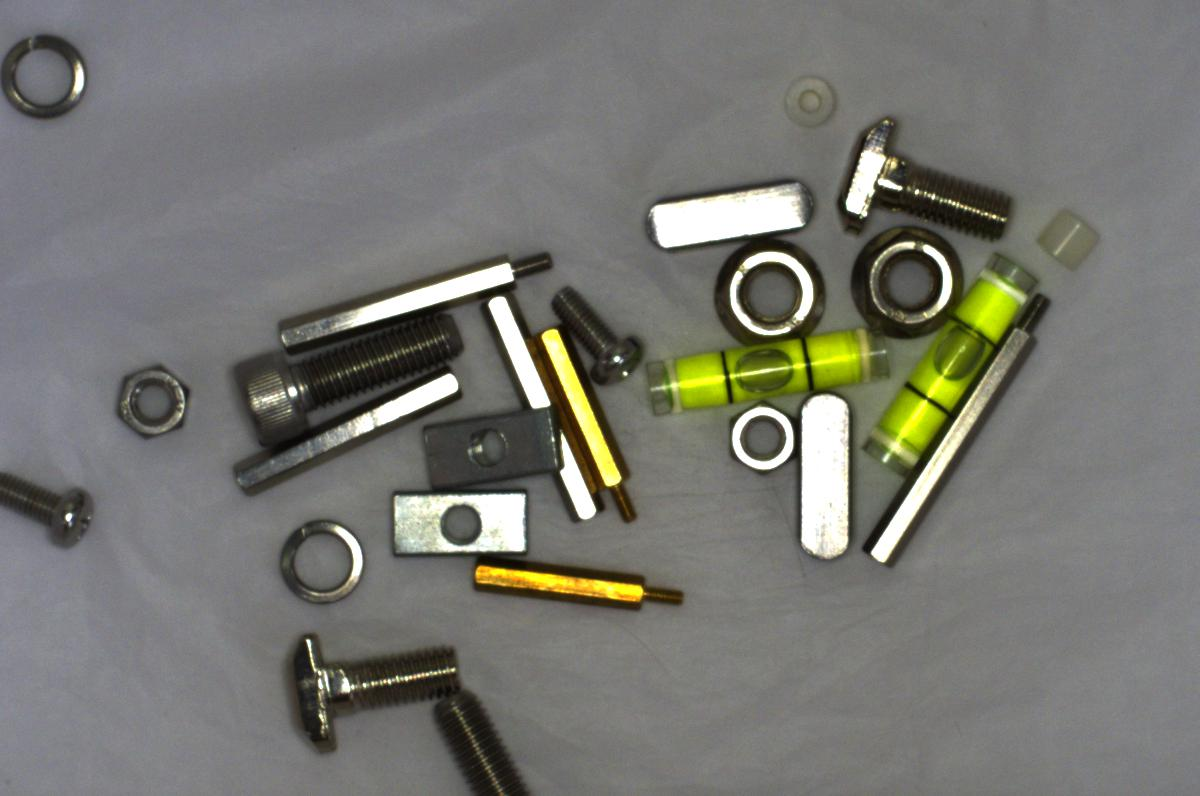Double hexagonal column: (223, 364, 467, 503), (478, 294, 603, 535)
Flange nut: (844, 222, 965, 340), (702, 240, 828, 345)
Hexagon nut: (111, 355, 194, 444), (717, 399, 802, 478)
Hexagon pillar: (541, 333, 635, 527), (465, 555, 688, 615)
Hexagon screw: (229, 312, 470, 444)
Hexagonal steel column: (835, 280, 1071, 571), (255, 249, 567, 346)
Horizontal bubble: (862, 246, 1055, 473), (661, 324, 882, 417)
Keybar: (629, 162, 823, 258), (782, 390, 861, 567)
Plastic cushion pillar: (1029, 195, 1105, 276), (774, 67, 844, 131)
Rectangular nut: (415, 408, 569, 491), (379, 487, 543, 562)
Round head screw: (7, 455, 102, 563), (547, 280, 642, 386)
Spring washer: (267, 513, 370, 609), (8, 23, 94, 130)
T-shaped screw: (278, 622, 484, 758), (841, 108, 1015, 250)
